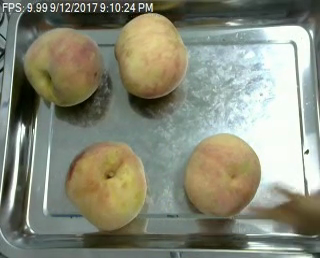Peach: (65, 140, 148, 232), (184, 132, 261, 218), (23, 27, 104, 107), (115, 11, 188, 98)
